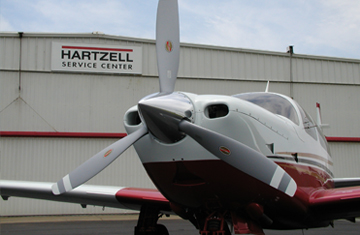Propeller: (45, 6, 295, 206)
